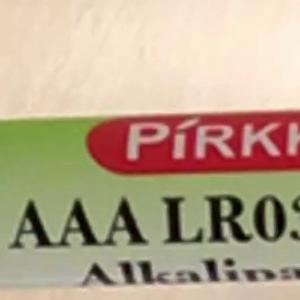ALK: (72, 251, 168, 296)
